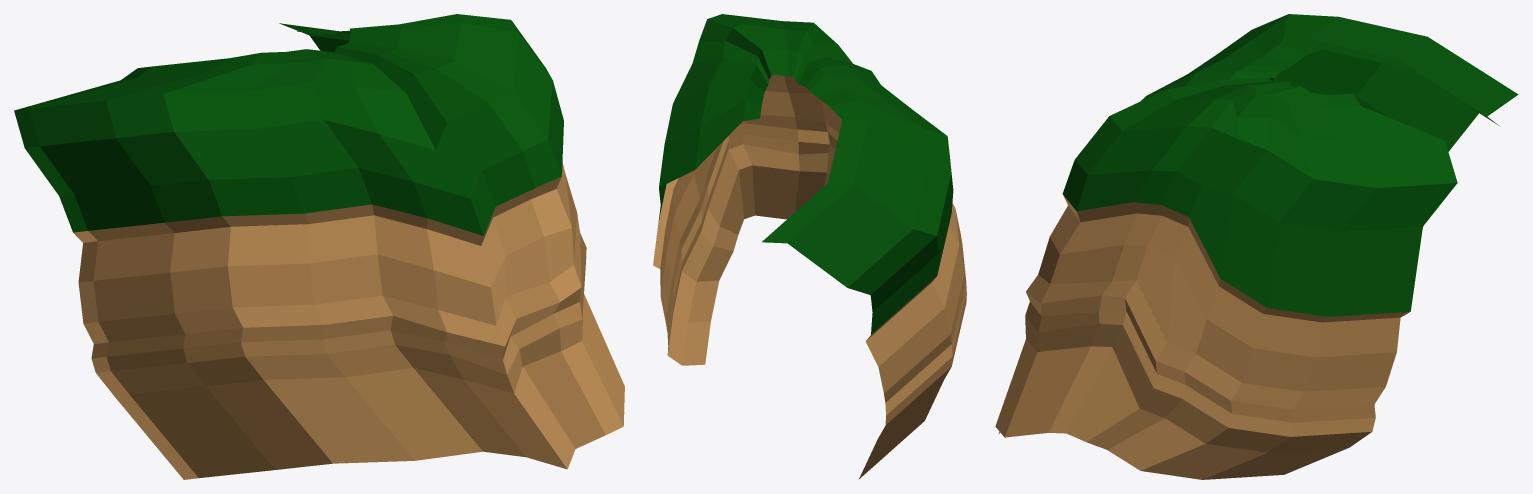
The model's file is farLands02.fbx.
3 renders of one model, left to right at view 1: azimuth 30°, elevation 25°; view 2: azimuth 150°, elevation 25°; view 3: azimuth 270°, elevation 25°, orthographic. The views are drawn at different scales.
Parts seen in each view (by area): view 1: farLands_02; view 2: farLands_02; view 3: farLands_02.
Boxes of the visible parts, x1=… form: farLands_02: x1=14, y1=14, x2=624, y2=479; farLands_02: x1=653, y1=14, x2=966, y2=478; farLands_02: x1=995, y1=14, x2=1518, y2=479.
Size of the model in its own units: 29151 by 31250 by 34320.
